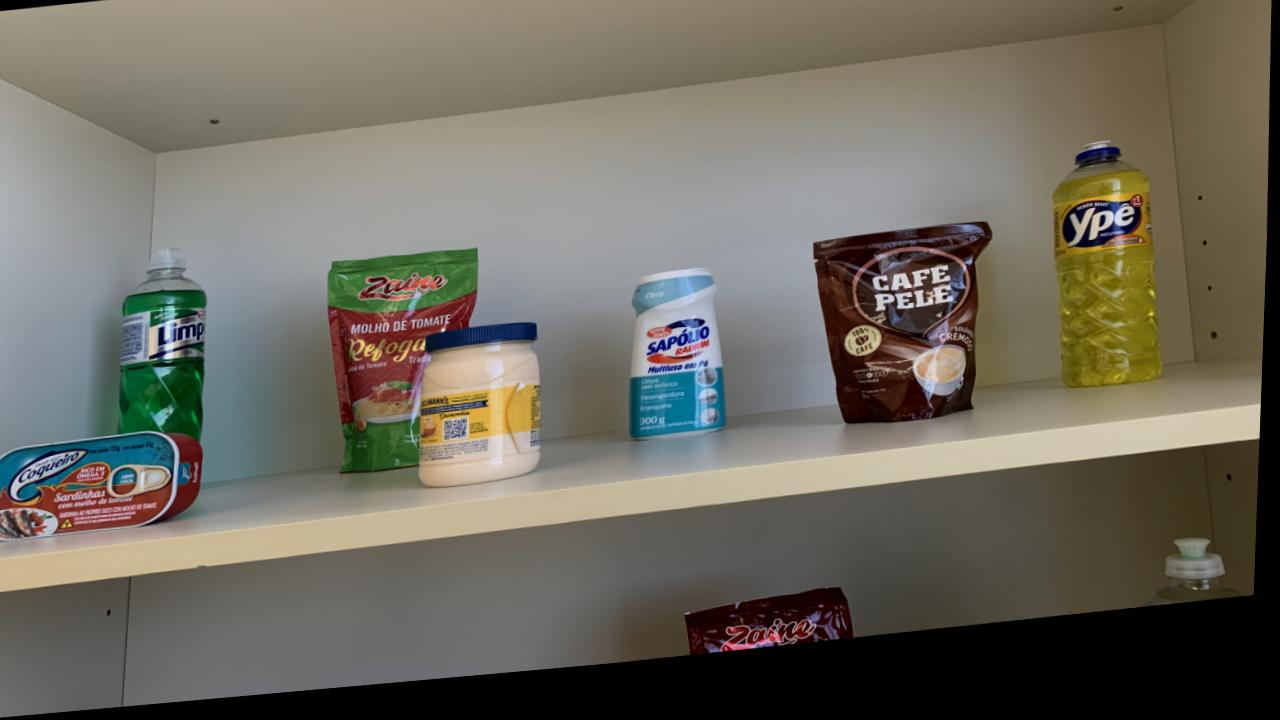Cleaner-Cleanup_Items: (632, 283, 733, 457)
Coffee-Pantry_Items: (813, 242, 994, 443)
Detergent-Cleanup_Items: (1054, 165, 1168, 411), (115, 253, 210, 453), (1157, 562, 1249, 628)
Mayonnaise-Pantry_Items: (421, 333, 547, 499)
Tomato_Sauce-Pantry_Items: (328, 258, 482, 483), (689, 606, 865, 669)
Tuna_Can-Pantry_Items: (0, 435, 205, 542)
